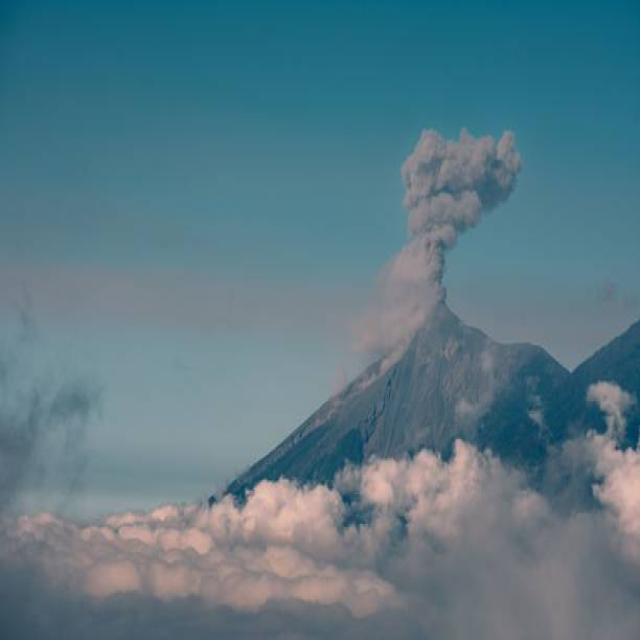Smoke: (381, 121, 528, 317)
